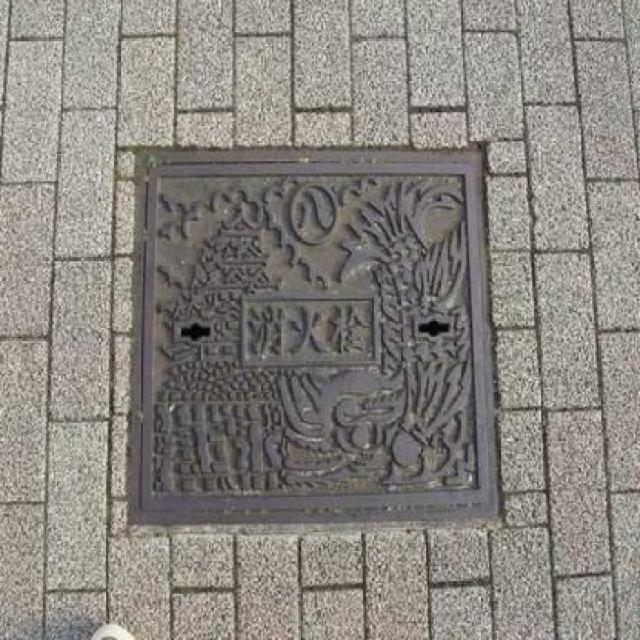Manhole: (120, 143, 504, 533)
